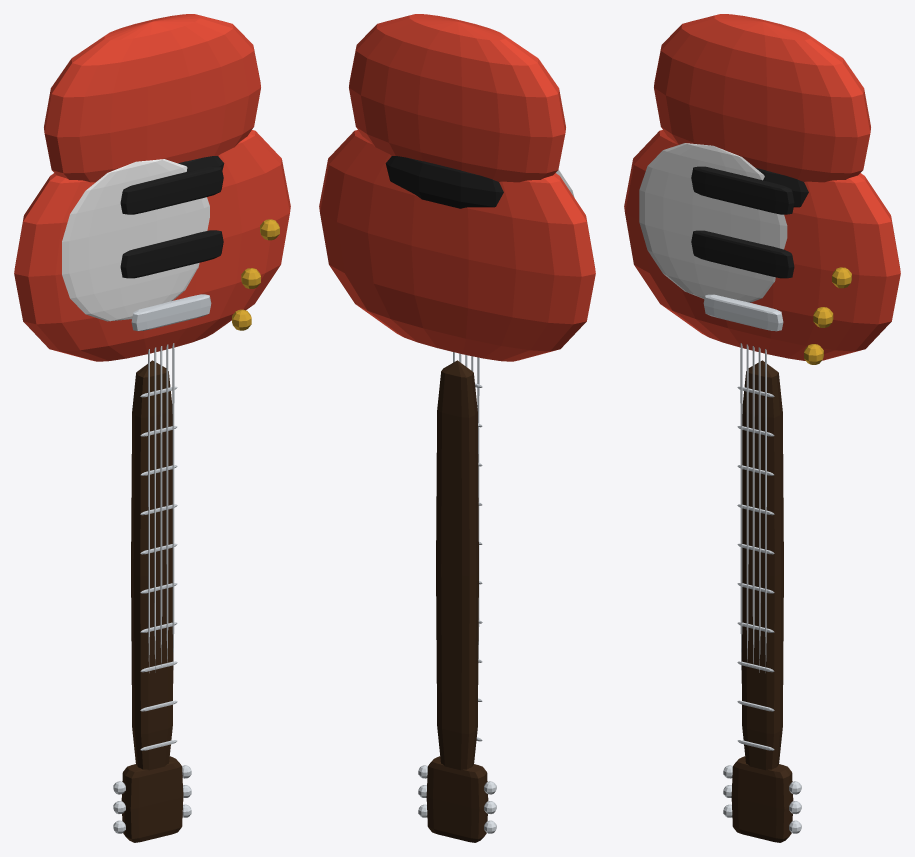
Rendered from m-guitar.glb.
3 views of the same model, side by side, from view 1: azimuth 30°, elevation 25°; view 2: azimuth 150°, elevation 25°; view 3: azimuth 330°, elevation 25° (orthographic).
Parts seen in each view (by area): view 1: melee; view 2: melee; view 3: melee.
Part boxes in pixels (left/top/right/bottom): melee: left=14, top=14, right=290, bottom=842; melee: left=319, top=14, right=595, bottom=842; melee: left=624, top=14, right=900, bottom=842.
Size of the model in its own units: 1.18 by 3.32 by 0.3082.
